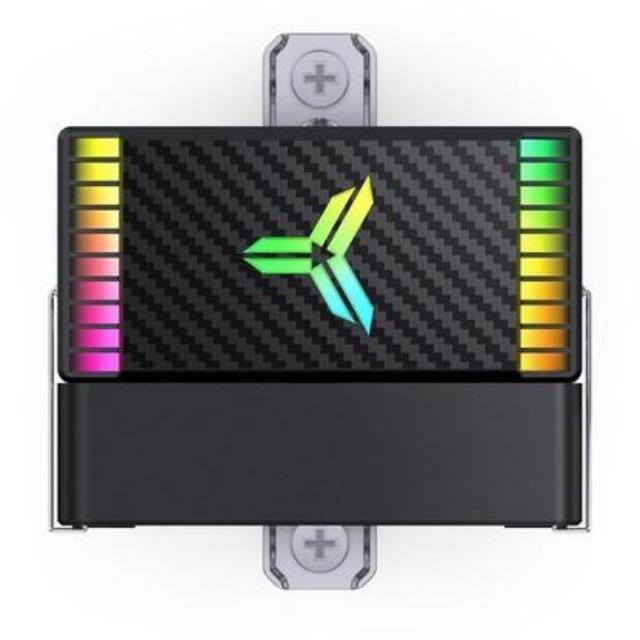CPU_Fan: (46, 111, 594, 534)
